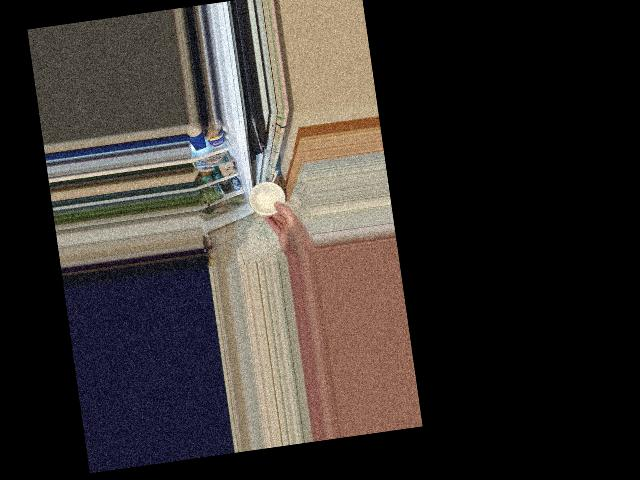cotage: (247, 178, 284, 219)
